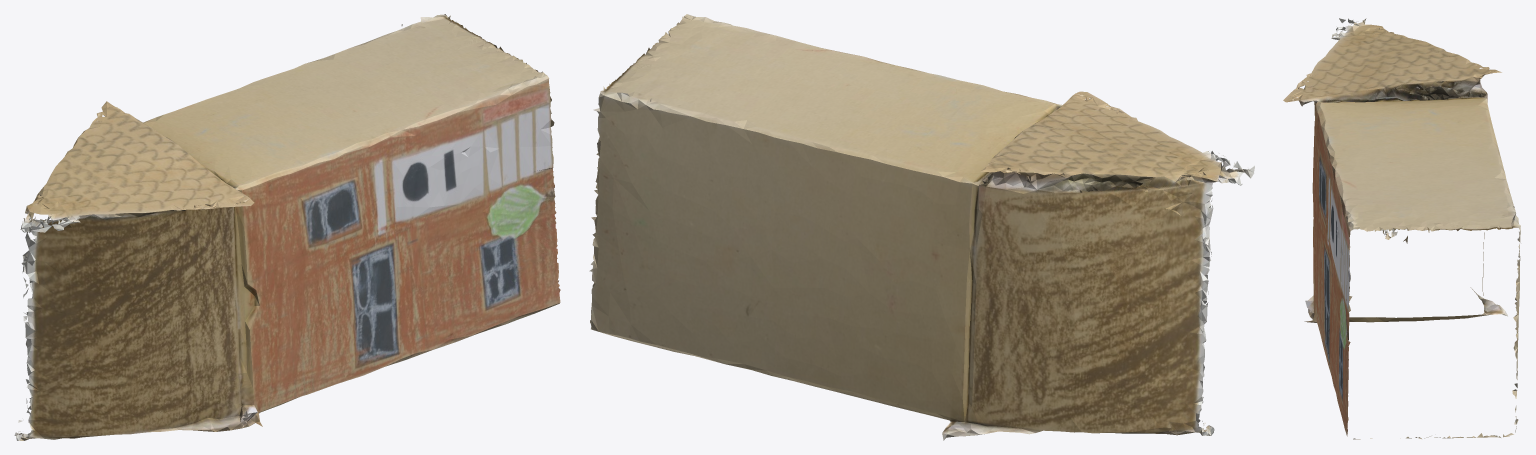
Rendered from m21_5K_1024tex.glb.
3 renders of one model, left to right at view 1: azimuth 30°, elevation 25°; view 2: azimuth 150°, elevation 25°; view 3: azimuth 270°, elevation 25°, orthographic. The views are drawn at different scales.
Bounding box in the file's own units: 2.37 × 1.09 × 1.02.
Materials: 1 (1 with a texture image).
